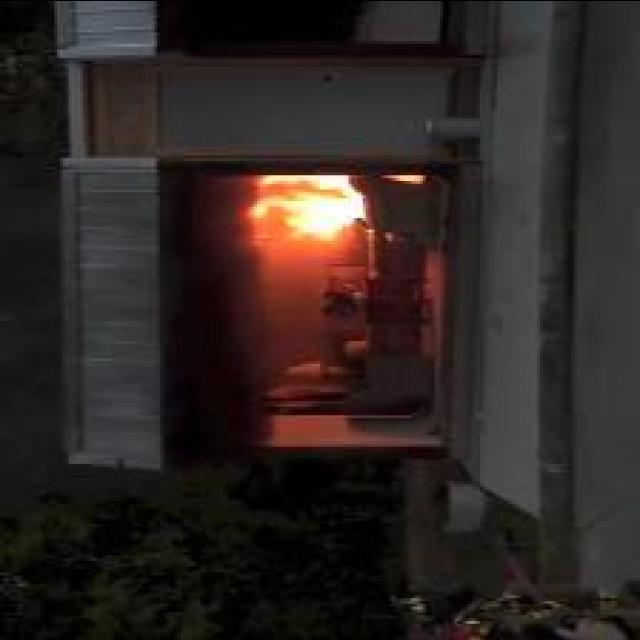Fire: (248, 174, 366, 240)
